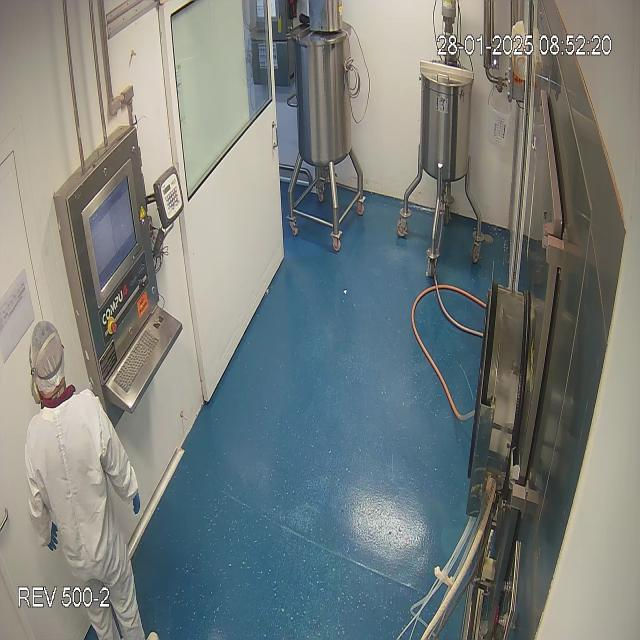pessoa: (6, 322, 166, 640)
touca: (16, 322, 86, 404)
